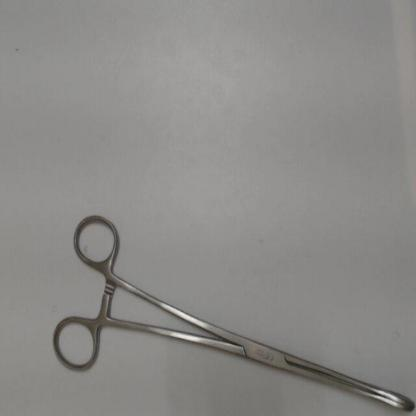Sponge Forceps: (47, 203, 416, 415)
